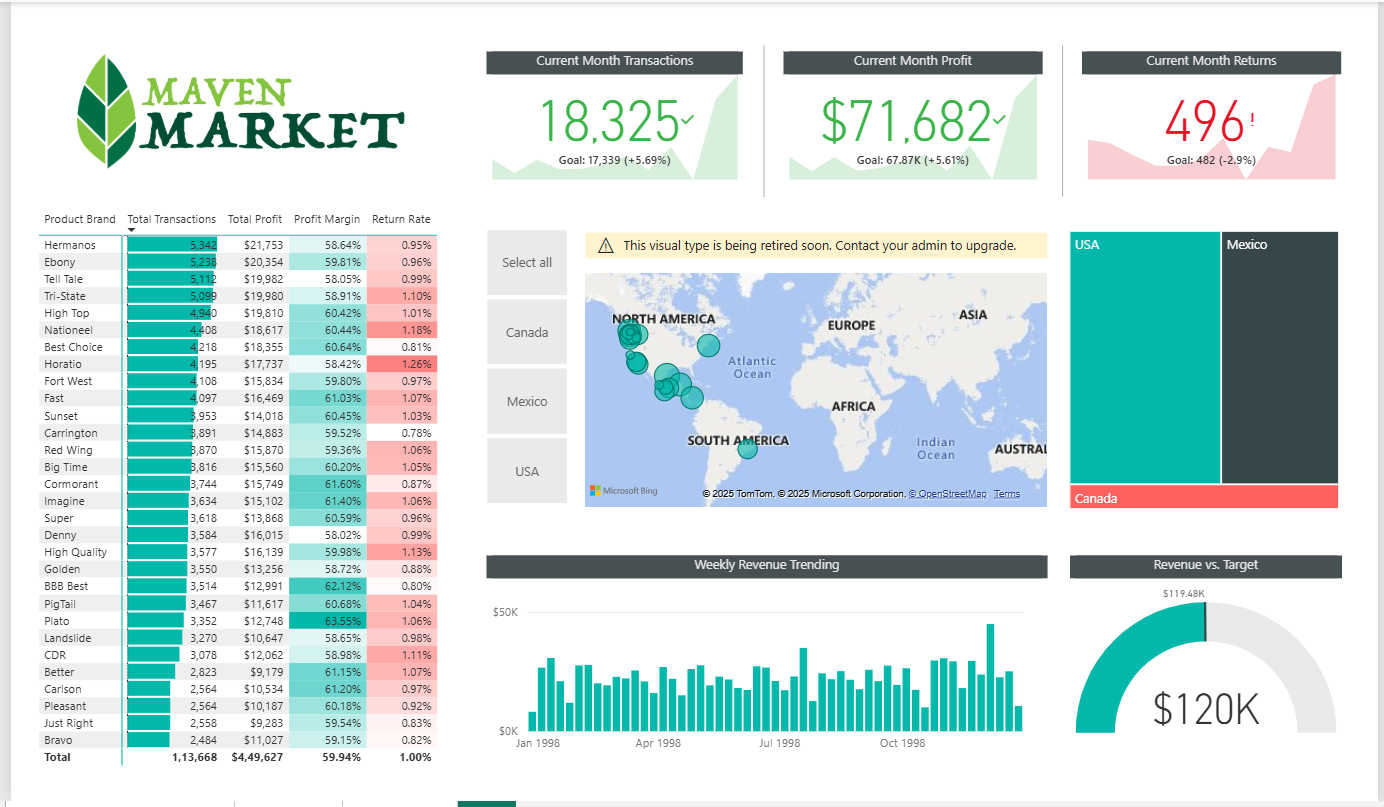

What the dashboard file says about the page in this screenshot:
{"tool":"powerbi","page":{"name":"Topline Performance","canvas":[1280,720],"ordinal":0},"visuals":[{"type":"image","box":[2.7,0,303.3,135.9],"z":0},{"type":"pivotTable","fields":{"Rows":["Products.product_brand"],"Values":["Measure.Total Transactions","Measure.Total Profit","Measure.Profit Margin","Measure.Return Rate"]},"box":[3.2,118.3,428.4,601.7],"z":1000},{"type":"kpi","title":"Current Month Transactions","fields":{"Indicator":["Measure.Total Transactions"],"TrendLine":["Calendar.Start of Month"],"Goal":["Measure.Last Month Transactions"]},"box":[430.9,20.4,259.4,138.6],"z":2000},{"type":"kpi","title":"Current Month Profit","fields":{"TrendLine":["Calendar.Start of Month"],"Indicator":["Measure.Total Profit"],"Goal":["Measure.Last Month Profit"]},"box":[719.8,20.4,259.4,138.6],"z":3000},{"type":"kpi","title":"Current Month Returns","fields":{"TrendLine":["Calendar.Start of Month"],"Indicator":["Measure.Total Returns"],"Goal":["Measure.Last Month Returns"]},"box":[1008.7,20.4,259.4,138.6],"z":4000},{"type":"map","fields":{"Category":["Stores.store_city"],"Series":["Stores.store_country"],"Size":["Measure.Total Transactions"]},"box":[538,159.2,477.6,299.2],"z":5000},{"type":"slicer","fields":{"Values":["Stores.store_country"]},"box":[426.8,159.2,118,299.2],"z":6000},{"type":"treemap","fields":{"Values":["Measure.Total Transactions"],"Group":["Stores.store_country","Stores.store_state","Stores.store_city"]},"box":[1026.5,159.2,253.9,299.2],"z":7000},{"type":"clusteredColumnChart","title":"Weekly Revenue Trending","fields":{"Y":["Measure.Total Revenue"],"Category":["Calendar.Start of Week"]},"box":[454.2,470.7,561.3,249.8],"z":8000},{"type":"gauge","title":"Revenue vs. Target","fields":{"Y":["Measure.Total Revenue"],"TargetValue":["Transaction Data.Revenue_Target"]},"box":[1026.5,470.7,241.5,236],"z":9000}]}

Visuals, with their boxes on the page's 1280x720 design canvas (x1, y1, x2, y2). These are canvas units, not pixel positions in the 1384x807 screenshot, which may show the page scaled, cropped or inside an application window:
image: 3/0/306/136
pivotTable - Products.product_brand x Measure.Total Transactions: 3/118/432/720
"Current Month Transactions" kpi: 431/20/690/159
"Current Month Profit" kpi: 720/20/979/159
"Current Month Returns" kpi: 1009/20/1268/159
map - Stores.store_city x Stores.store_country: 538/159/1016/458
slicer - Stores.store_country: 427/159/545/458
treemap - Measure.Total Transactions x Stores.store_country: 1026/159/1280/458
"Weekly Revenue Trending" clusteredColumnChart: 454/471/1016/720
"Revenue vs. Target" gauge: 1026/471/1268/707
